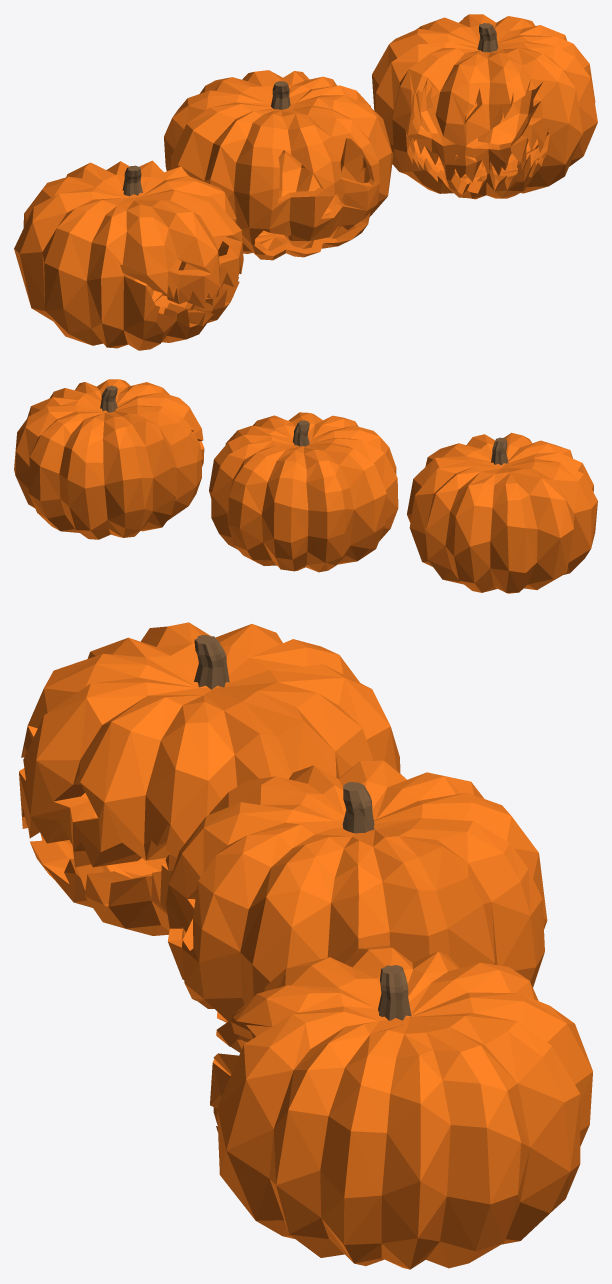
The model's file is Jaco2.glb.
The picture shows the model from 3 angles, top to bottom: view 1: azimuth 30°, elevation 25°; view 2: azimuth 150°, elevation 25°; view 3: azimuth 270°, elevation 25°; orthographic projection. The views are drawn at different scales.
Parts seen in each view (by area): view 1: Pun, Pun.001, Pum, Top.001, Top.002, Top; view 2: Pum, Pun.001, Pun, Top.001, Top.002, Top; view 3: Pun.001, Pum, Pun, Top.001, Top.002, Top.
Boxes of the visible parts, <box> form: Pun: <box>14,160,243,350</box>; Pun.001: <box>372,14,597,199</box>; Pum: <box>164,70,393,260</box>; Top.001: <box>122,165,142,196</box>; Top.002: <box>477,23,498,52</box>; Top: <box>271,81,290,109</box>; Pum: <box>209,412,398,572</box>; Pun.001: <box>14,379,204,539</box>; Pun: <box>407,432,597,593</box>; Top.001: <box>491,437,508,465</box>; Top.002: <box>100,385,117,412</box>; Top: <box>292,420,309,446</box>; Pun.001: <box>210,945,592,1269</box>; Pum: <box>166,760,547,1047</box>; Pun: <box>19,622,400,935</box>; Top.001: <box>194,635,229,689</box>; Top.002: <box>378,965,411,1020</box>; Top: <box>342,782,374,833</box>.
Bounding box in the file's own units: 4.6 × 1.22 × 2.24.
